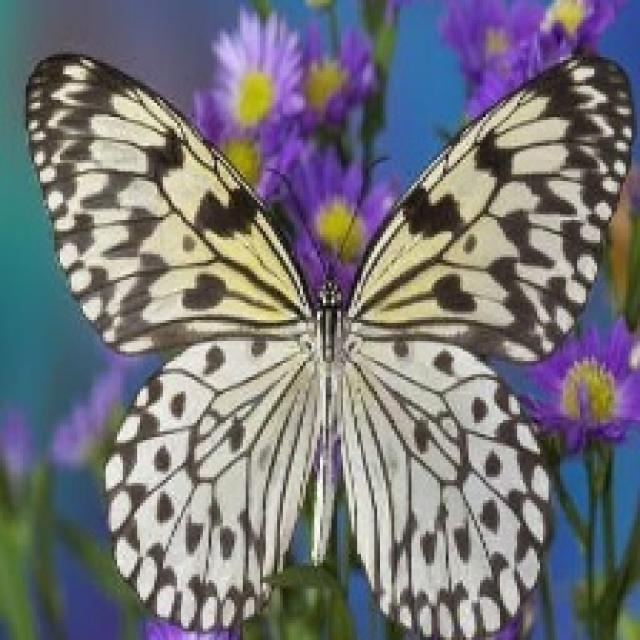butterfly: (20, 43, 637, 637)
